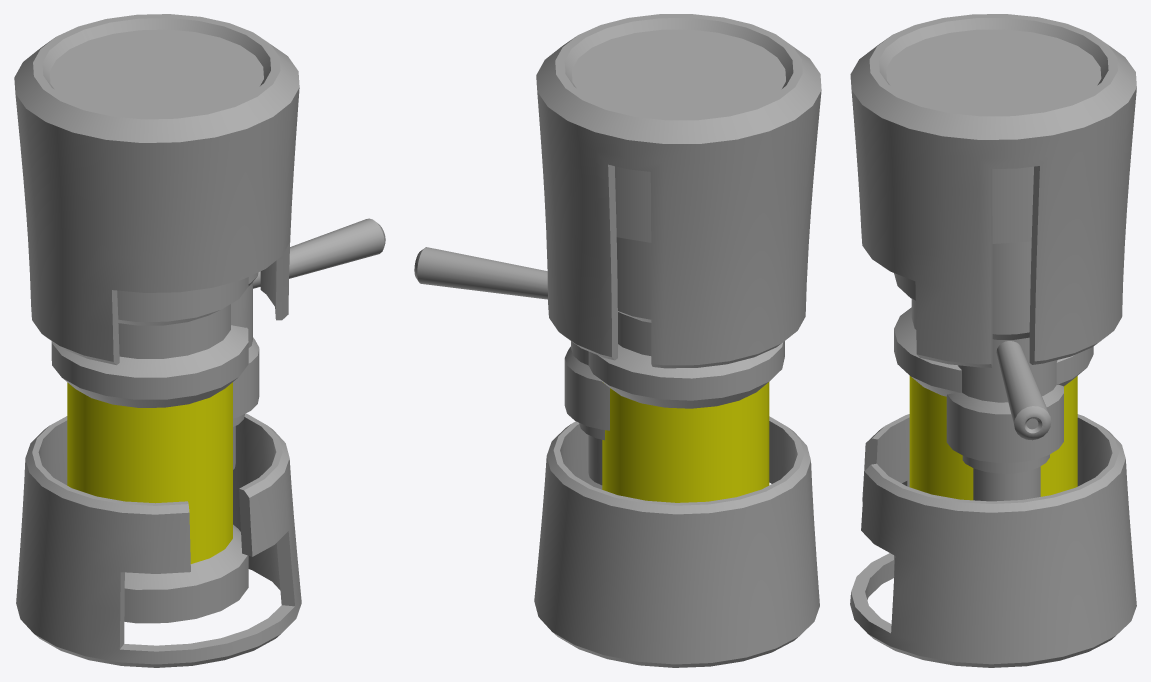
The model's file is SM_CoffeeMachineFinal_02.fbx.
3 views of the same model, side by side, from view 1: azimuth 30°, elevation 25°; view 2: azimuth 150°, elevation 25°; view 3: azimuth 270°, elevation 25° (orthographic).
Parts seen in each view (by area): view 1: CoffeeMachineBody, CoffeeMachineShooter, CoffeeMachineGlass; view 2: CoffeeMachineBody, CoffeeMachineShooter, CoffeeMachineGlass; view 3: CoffeeMachineBody, CoffeeMachineShooter, CoffeeMachineGlass.
Part boxes in pixels (x1,y1,x2,y2): CoffeeMachineBody: [14, 14, 301, 667]; CoffeeMachineShooter: [51, 218, 385, 623]; CoffeeMachineGlass: [67, 382, 232, 563]; CoffeeMachineBody: [534, 14, 821, 667]; CoffeeMachineShooter: [414, 237, 784, 485]; CoffeeMachineGlass: [602, 382, 769, 502]; CoffeeMachineBody: [850, 14, 1136, 667]; CoffeeMachineShooter: [894, 241, 1093, 575]; CoffeeMachineGlass: [909, 376, 1077, 500].
Bounding box in the file's own units: 35.8 × 51.16 × 24.27.
